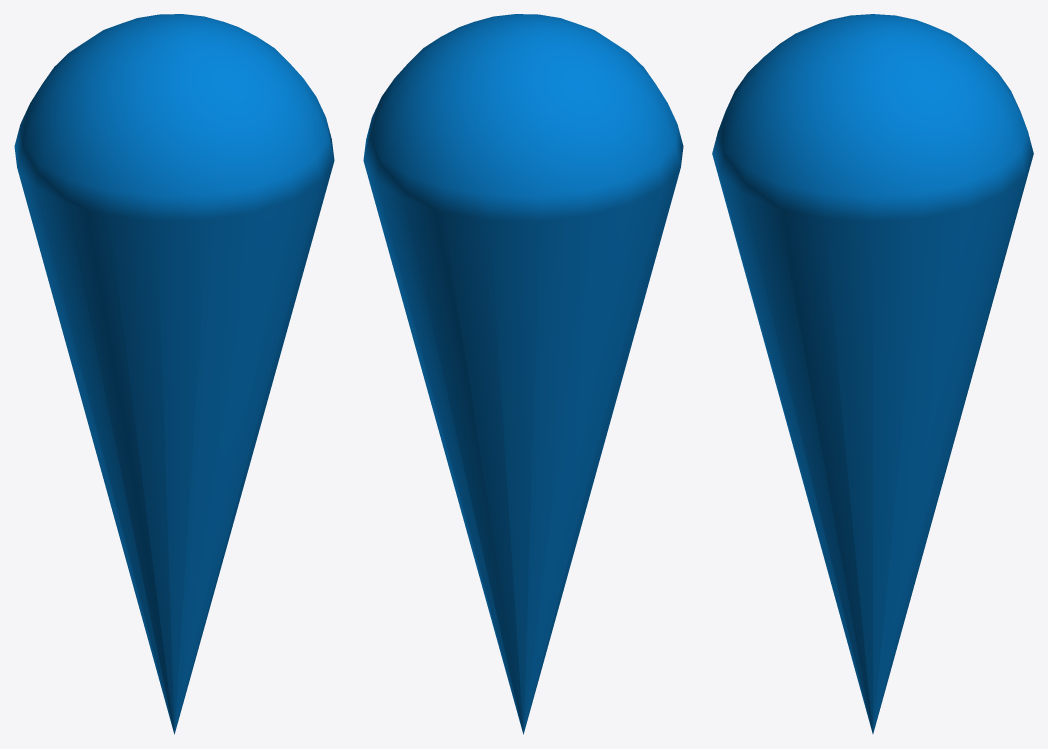
File: SM_Circle_Bullet.fbx
3 renders of one model, left to right at view 1: azimuth 30°, elevation 25°; view 2: azimuth 150°, elevation 25°; view 3: azimuth 270°, elevation 25°, orthographic.
Visible parts, largest first — view 1: pSphere1; view 2: pSphere1; view 3: pSphere1.
Boxes of the visible parts, bbox=[...] form: pSphere1: bbox=[14, 14, 334, 734]; pSphere1: bbox=[363, 14, 683, 734]; pSphere1: bbox=[712, 14, 1033, 733].
Bounding box in the file's own units: 2.55 × 6.18 × 2.55.
